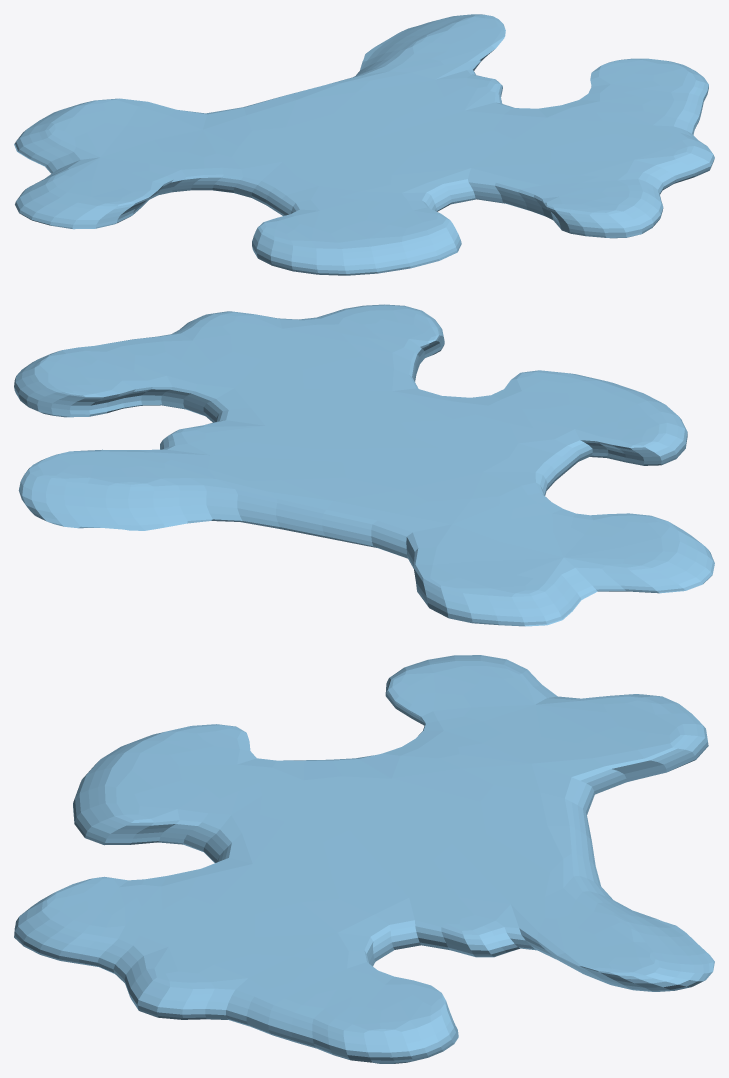
File: Water Puddle.fbx
3 views of the same model, one above another, from view 1: azimuth 30°, elevation 25°; view 2: azimuth 150°, elevation 25°; view 3: azimuth 270°, elevation 25° (orthographic). The views are drawn at different scales.
Parts seen in each view (by area): view 1: Puddle; view 2: Puddle; view 3: Puddle.
Part boxes in pixels (box(x1,y1,x2,y2)): Puddle: box(14, 14, 714, 275); Puddle: box(14, 304, 714, 626); Puddle: box(14, 655, 714, 1063).
Size of the model in its own units: 786 by 24.1 by 572.
